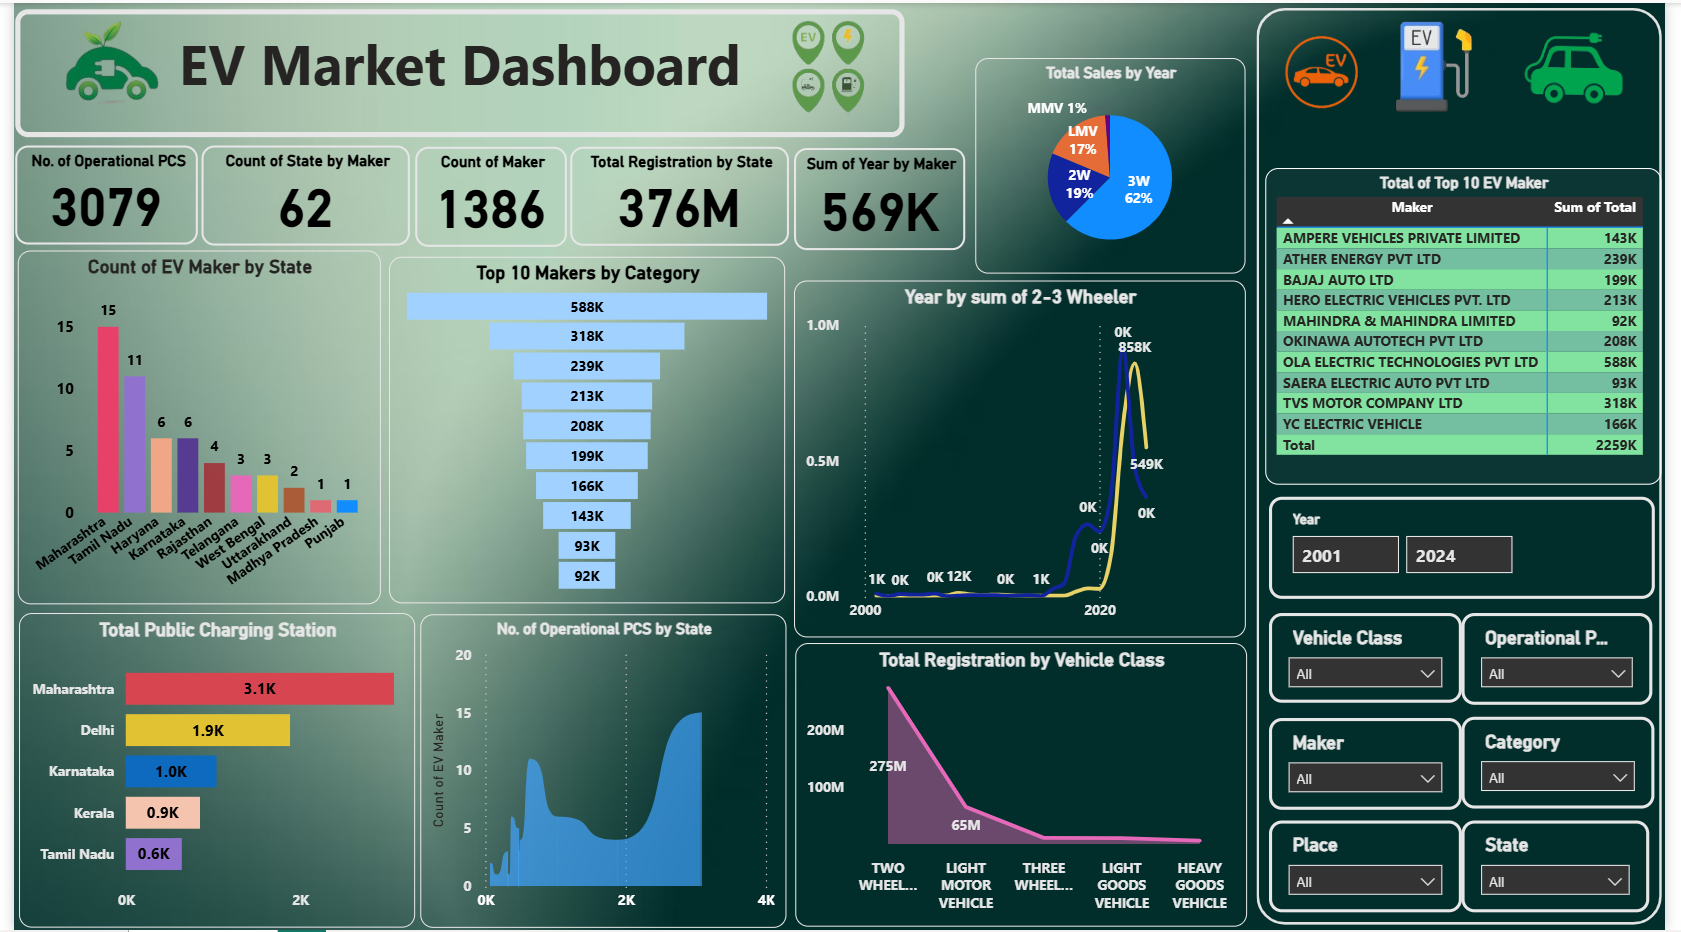

Layout of this report page (visuals, bound fields, positions):
{"tool":"powerbi","page":{"name":"EV_Dashboard","canvas":[1280,720],"ordinal":0},"visuals":[{"type":"columnChart","fields":{"Y":["CountNonNull(EV Marker by Place.EV Maker)"],"Category":["EV Marker by Place.State"]},"box":[2.8,191.6,281.3,274.4],"z":0},{"type":"lineChart","title":"Year by sum of 2-3 Wheeler","fields":{"Category":["EV_cat_01-24.Year"],"Y":["Sum(EV_cat_01-24.TWO WHEELER(NT))"],"Y2":["Sum(EV_cat_01-24.THREE WHEELER(NT))"]},"box":[604.7,215,350,277],"z":1000},{"type":"pieChart","title":"Total Sales by Year","fields":{"Category":["EV_Sales_by_makers_and_cat_15-24.Cat"],"Y":["CountNonNull(EV_Sales_by_makers_and_cat_15-24.Total)"]},"box":[745.4,43,209.3,167.4],"z":2000},{"type":"barChart","title":"Total Public Charging Station","fields":{"Category":["OperationalPC.State"],"Y":["Sum(OperationalPC.No. of Operational PCS)"]},"box":[4,473,307,244.2],"z":3000},{"type":"actionButton","box":[0,0,7.8,12.2],"z":4000},{"type":"stackedAreaChart","title":"Total Registration by Vehicle Class","fields":{"Category":["Vehicle Class-All.Vehicle Class"],"Y":["Sum(Vehicle Class-All.Total Registration)"]},"box":[606,496,350,220],"z":5000},{"type":"kpi","title":"No. of Operational PCS ","fields":{"Indicator":["Sum(OperationalPC.No. of Operational PCS)"],"TrendLine":["OperationalPC.No. of Operational PCS"]},"box":[1.2,110.5,141.9,76.7],"z":6000},{"type":"kpi","title":"Count of Maker","fields":{"TrendLine":["EV_cat_01-24.Total "],"Indicator":["CountNonNull(EV_Sales_by_makers_and_cat_15-24.Maker)"]},"box":[311,111,117.4,77.9],"z":8000},{"type":"kpi","title":"Total Registration by State","fields":{"TrendLine":["EV Marker by Place.State"],"Indicator":["Sum(Vehicle Class-All.Total Registration)"]},"box":[431,111.6,169.8,76.7],"z":9000},{"type":"kpi","fields":{"TrendLine":["EV_Sales_by_makers_and_cat_15-24.Maker"],"Indicator":["CountNonNull(EV Marker by Place.State)"]},"box":[145.3,110.5,161.6,77.9],"z":10000},{"type":"kpi","fields":{"Indicator":["Sum(EV_cat_01-24.Year)"],"TrendLine":["EV_Sales_by_makers_and_cat_15-24.Maker"]},"box":[604.7,112.8,132.6,79.1],"z":11000},{"type":"ribbonChart","title":"No. of Operational PCS by State","fields":{"Category":["OperationalPC.No. of Operational PCS"],"Y":["CountNonNull(EV Marker by Place.EV Maker)"]},"box":[315.1,474,284,243],"z":12000},{"type":"textbox","box":[1.2,4.7,689.5,98.8],"z":13000},{"type":"shape","box":[963.3,4.1,314.2,710.8],"z":14000},{"type":"slicer","fields":{"Values":["EV_cat_01-24.Year"]},"box":[972.9,382.8,299.1,79.6],"z":15000},{"type":"slicer","fields":{"Values":["EV_Sales_by_makers_and_cat_15-24.Maker"]},"box":[972.9,554.4,149.6,71.4],"z":16000},{"type":"slicer","fields":{"Values":["EV_Sales_by_makers_and_cat_15-24.Cat"]},"box":[1122.5,553,149.6,71.4],"z":17000},{"type":"slicer","fields":{"Values":["Vehicle Class-All.Vehicle Class"]},"box":[972.9,473.4,149.6,70],"z":18000},{"type":"slicer","fields":{"Values":["OperationalPC.No. of Operational PCS"]},"box":[1122.5,473.4,148.2,71.4],"z":19000},{"type":"slicer","fields":{"Values":["EV Marker by Place.Place"]},"box":[972.9,634,149.6,71.4],"z":20000},{"type":"slicer","fields":{"Values":["EV Marker by Place.State"]},"box":[1122.5,634,145.5,71.4],"z":21000},{"type":"image","box":[1138.9,0,141.3,100.2],"z":22000},{"type":"image","box":[16.5,0,119.4,91.9],"z":24000},{"type":"image","box":[573.6,8.2,115.3,83.7],"z":25000},{"type":"image","box":[954.7,0,118.6,107],"z":26000},{"type":"image","box":[1036,8.1,130.2,83.7],"z":27000},{"type":"funnel","title":"Top 10 Makers by Category","fields":{"Category":["EV_Sales_by_makers_and_cat_15-24.Maker"],"Y":["Sum(EV_Sales_by_makers_and_cat_15-24.Total)"]},"box":[291,197.1,307.4,269],"z":28000},{"type":"pivotTable","title":"Total of Top 10 EV Maker ","fields":{"Values":["Sum(EV_Sales_by_makers_and_cat_15-24.Total)"],"Rows":["EV_Sales_by_makers_and_cat_15-24.Maker"]},"box":[970,127.9,307,245.3],"z":29000}]}

Visuals, with their boxes in screenshot pixels (x1, y1, x2, y2), scaled from the page's 1280x720 canvas onto the 1681x932 screenshot:
columnChart - CountNonNull(EV Marker by Place.EV Maker) x EV Marker by Place.State: bbox(4, 248, 373, 603)
"Year by sum of 2-3 Wheeler" lineChart: bbox(794, 278, 1254, 637)
"Total Sales by Year" pieChart: bbox(979, 56, 1254, 272)
"Total Public Charging Station" barChart: bbox(5, 612, 408, 928)
actionButton: bbox(0, 0, 10, 16)
"Total Registration by Vehicle Class" stackedAreaChart: bbox(796, 642, 1255, 927)
"No. of Operational PCS " kpi: bbox(2, 143, 188, 242)
"Count of Maker" kpi: bbox(408, 144, 563, 245)
"Total Registration by State" kpi: bbox(566, 144, 789, 244)
kpi - EV_Sales_by_makers_and_cat_15-24.Maker x CountNonNull(EV Marker by Place.State): bbox(191, 143, 403, 244)
kpi - Sum(EV_cat_01-24.Year) x EV_Sales_by_makers_and_cat_15-24.Maker: bbox(794, 146, 968, 248)
"No. of Operational PCS by State" ribbonChart: bbox(414, 614, 787, 928)
textbox: bbox(2, 6, 907, 134)
shape: bbox(1265, 5, 1678, 925)
slicer - EV_cat_01-24.Year: bbox(1278, 496, 1670, 599)
slicer - EV_Sales_by_makers_and_cat_15-24.Maker: bbox(1278, 718, 1474, 810)
slicer - EV_Sales_by_makers_and_cat_15-24.Cat: bbox(1474, 716, 1671, 808)
slicer - Vehicle Class-All.Vehicle Class: bbox(1278, 613, 1474, 703)
slicer - OperationalPC.No. of Operational PCS: bbox(1474, 613, 1669, 705)
slicer - EV Marker by Place.Place: bbox(1278, 821, 1474, 913)
slicer - EV Marker by Place.State: bbox(1474, 821, 1665, 913)
image: bbox(1496, 0, 1680, 130)
image: bbox(22, 0, 178, 119)
image: bbox(753, 11, 905, 119)
image: bbox(1254, 0, 1410, 139)
image: bbox(1361, 10, 1532, 119)
"Top 10 Makers by Category" funnel: bbox(382, 255, 786, 603)
"Total of Top 10 EV Maker " pivotTable: bbox(1274, 166, 1677, 483)
